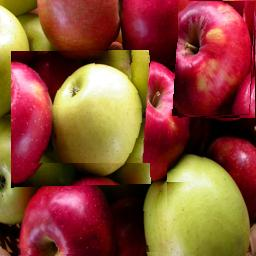Apple Fresh: (12, 51, 152, 188), (109, 43, 212, 184), (14, 164, 168, 256), (178, 1, 256, 119)
